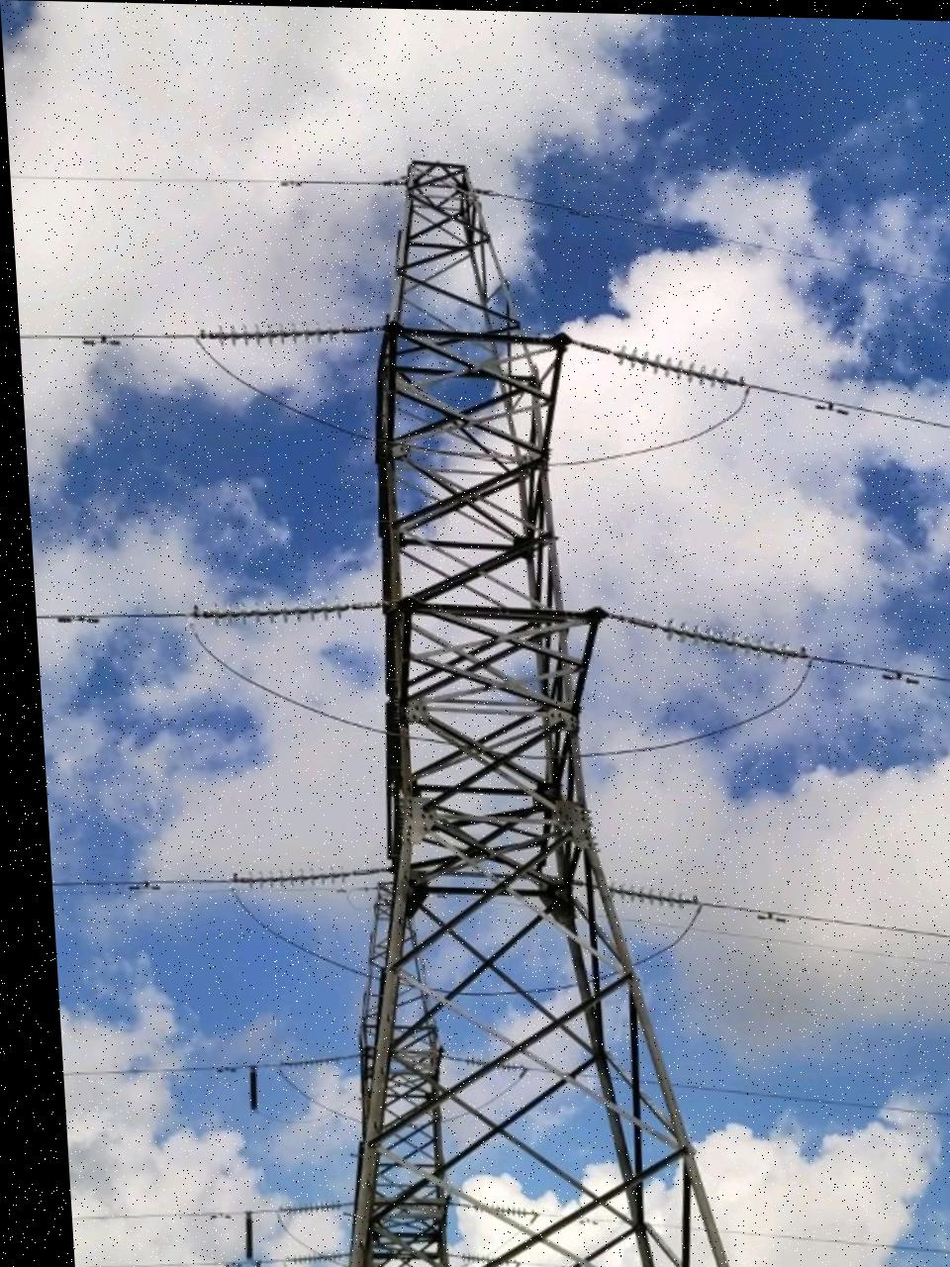tower: (263, 132, 757, 1267)
